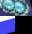bar: (15, 16, 32, 34)
mirror: (15, 0, 32, 16), (0, 0, 15, 16)
